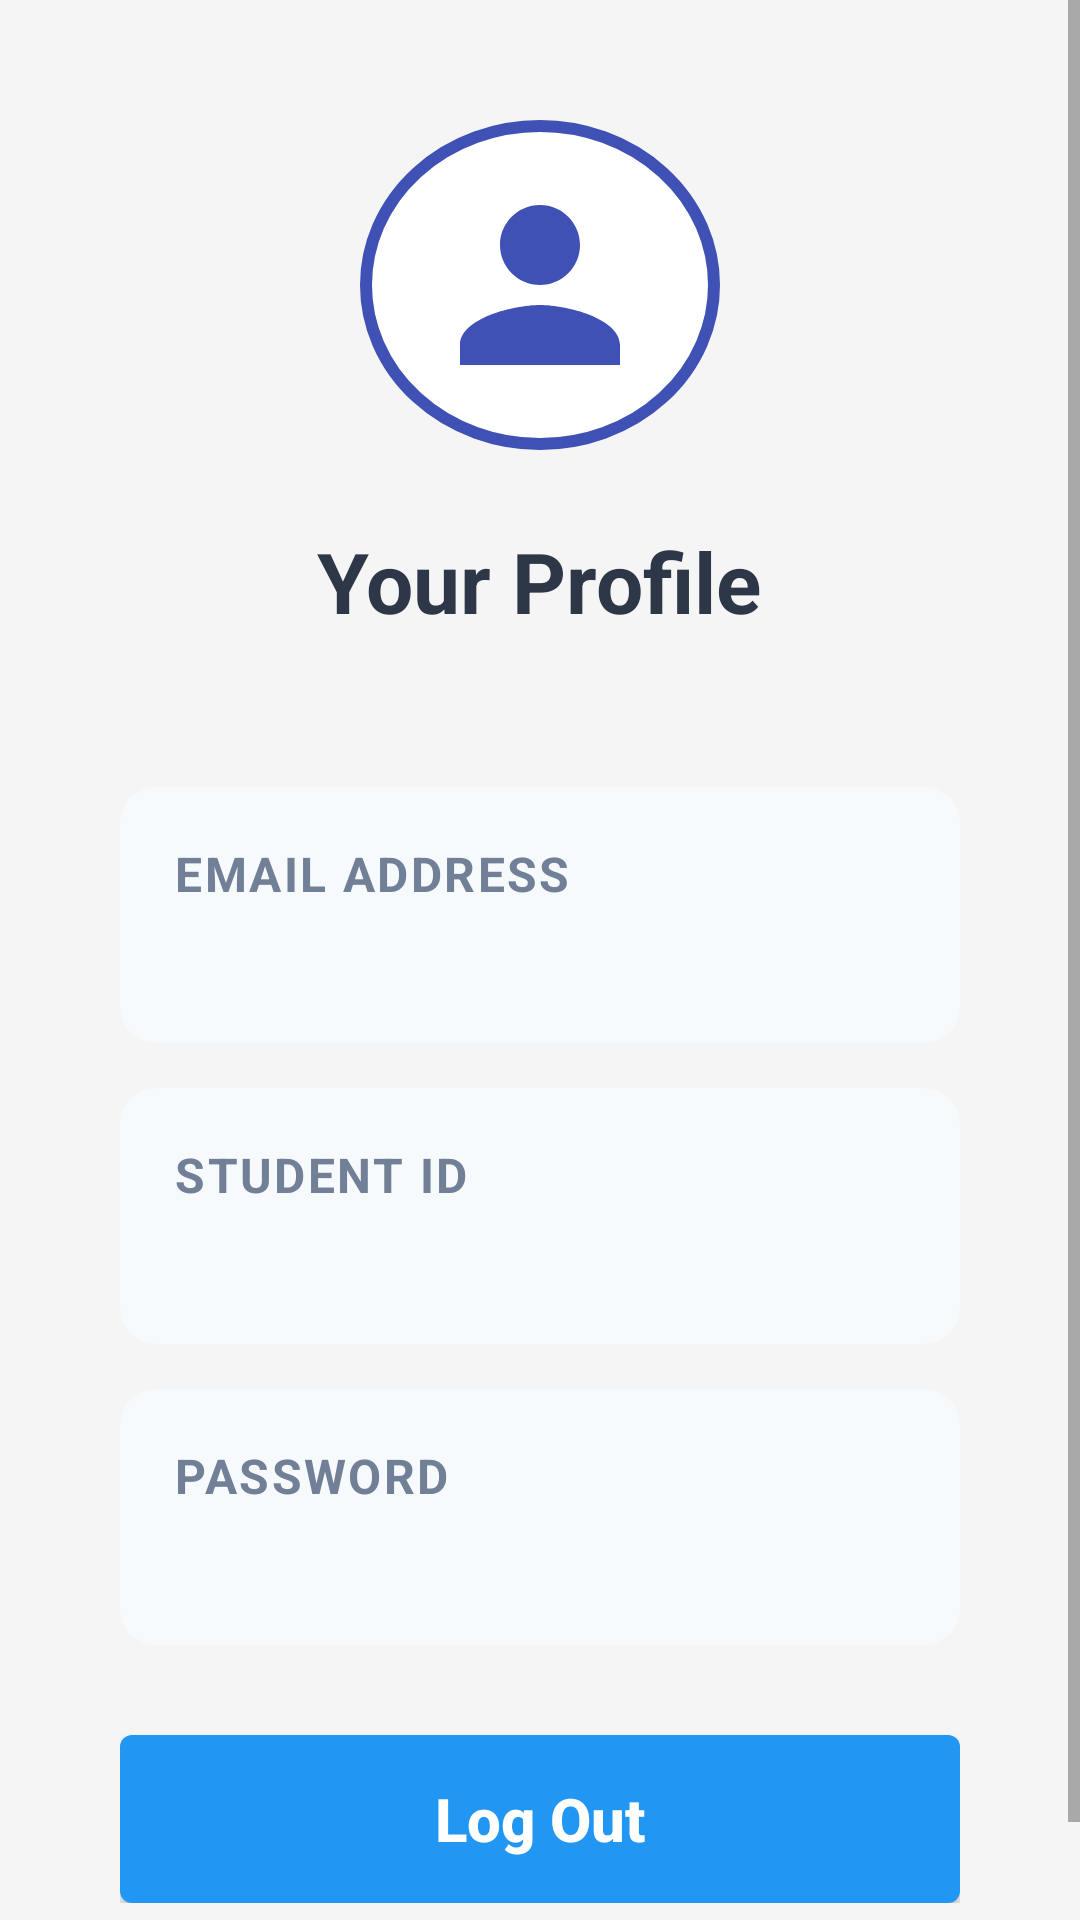

Named icons in this screenshot (1080w x 1920h) and their bounding boxes, rect(x1, y1, x2, y2):
person profile: rect(460, 205, 620, 365)
